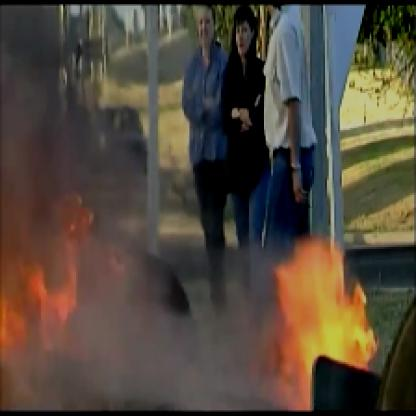Fire: (2, 204, 381, 414)
